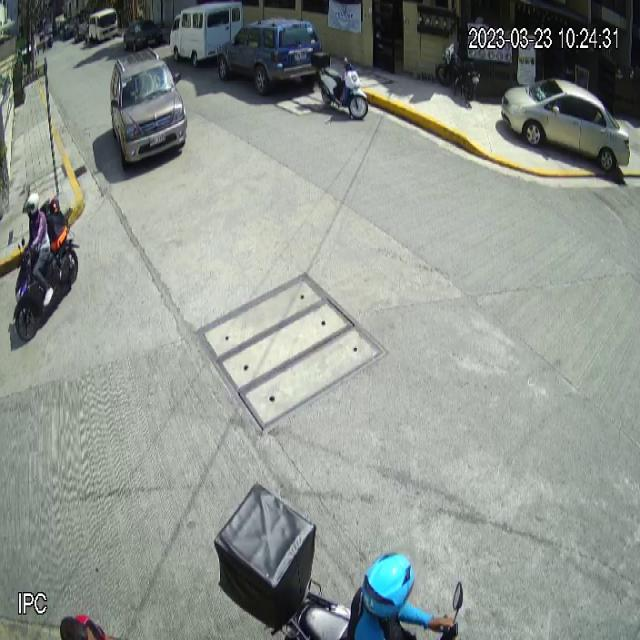Car: (500, 76, 630, 173), (109, 46, 188, 170), (215, 15, 322, 93)
Motorcycle: (311, 51, 368, 120)
Van: (170, 0, 244, 67)
